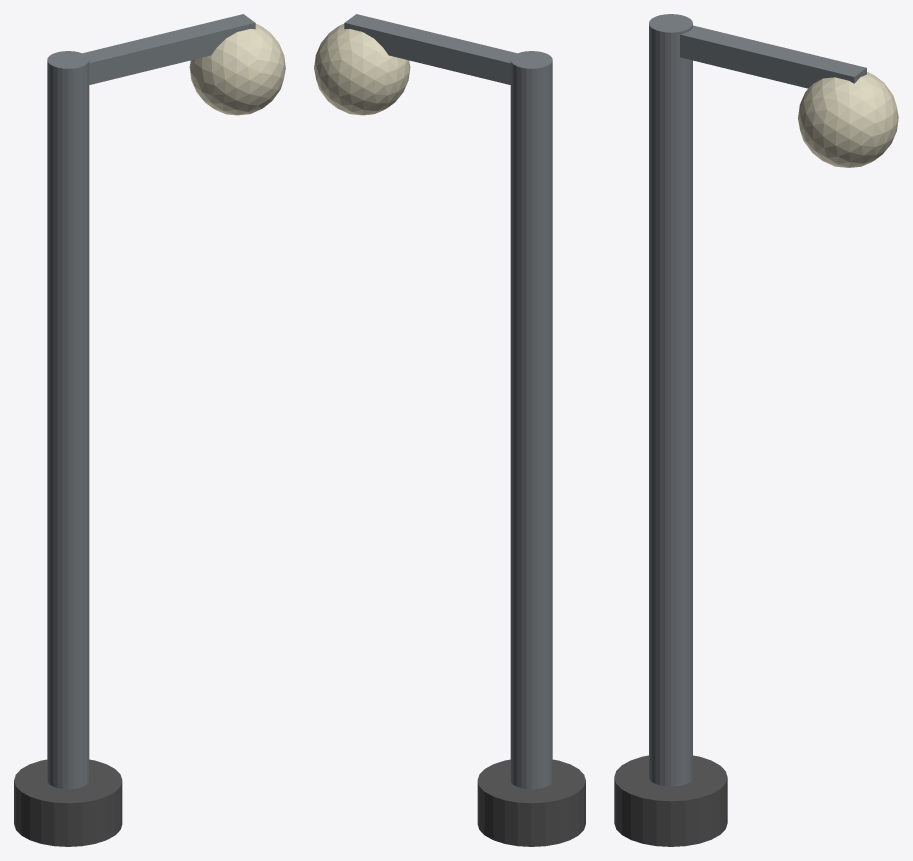
The model's file is streetlamp.glb.
3 views of the same model, side by side, from view 1: azimuth 30°, elevation 25°; view 2: azimuth 150°, elevation 25°; view 3: azimuth 330°, elevation 25° (orthographic). The views are drawn at different scales.
Parts seen in each view (by area): view 1: pole, base, lamp, arm; view 2: pole, base, lamp, arm; view 3: pole, base, lamp, arm.
Part boxes in pixels (bbox=[...]): pole: bbox=[47, 51, 89, 789]; base: bbox=[14, 759, 122, 846]; lamp: bbox=[189, 24, 285, 115]; arm: bbox=[83, 14, 255, 84]; pole: bbox=[510, 51, 552, 789]; base: bbox=[477, 759, 585, 846]; lamp: bbox=[314, 24, 410, 115]; arm: bbox=[344, 14, 516, 84]; pole: bbox=[649, 14, 692, 786]; base: bbox=[614, 755, 727, 846]; lamp: bbox=[798, 72, 898, 167]; arm: bbox=[680, 25, 866, 88].
Bounding box in the file's own units: 0.99 × 2.8 × 0.36.
